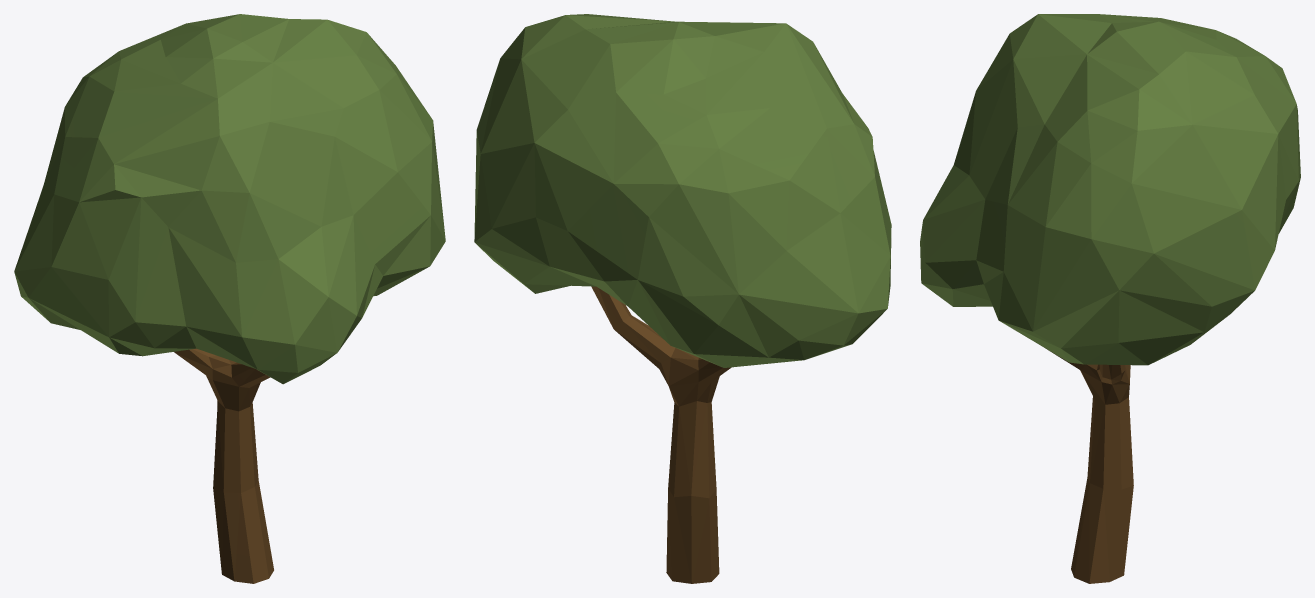
The model's file is Tree.fbx.
3 views of the same model, side by side, from view 1: azimuth 30°, elevation 25°; view 2: azimuth 150°, elevation 25°; view 3: azimuth 270°, elevation 25° (orthographic). The views are drawn at different scales.
Visible parts, largest first — view 1: Tree_03_LOD0; view 2: Tree_03_LOD0; view 3: Tree_03_LOD0.
Boxes of the visible parts, <box> form: Tree_03_LOD0: <box>14,14,445,583</box>; Tree_03_LOD0: <box>474,14,891,583</box>; Tree_03_LOD0: <box>920,14,1300,583</box>.
Bounding box in the file's own units: 11.02 × 14.43 × 9.13.
